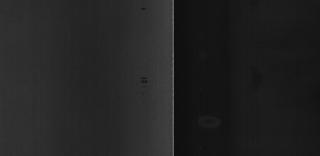oil spot: (140, 72, 152, 90), (136, 4, 150, 15)
